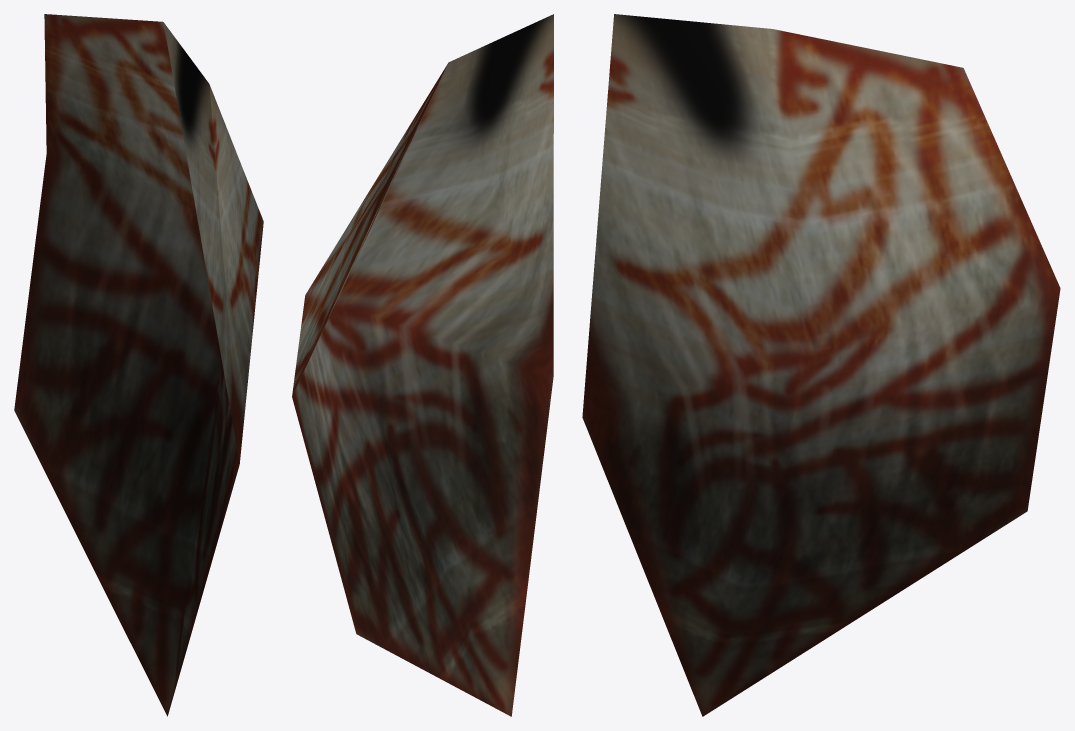
The model's file is shield.gltf.
The picture shows the model from 3 angles, left to right: view 1: azimuth 30°, elevation 25°; view 2: azimuth 150°, elevation 25°; view 3: azimuth 270°, elevation 25°; orthographic projection. The views are drawn at different scales.
Bounding box in the file's own units: 58.37 × 247 × 152.
1 material, 1 textured.
